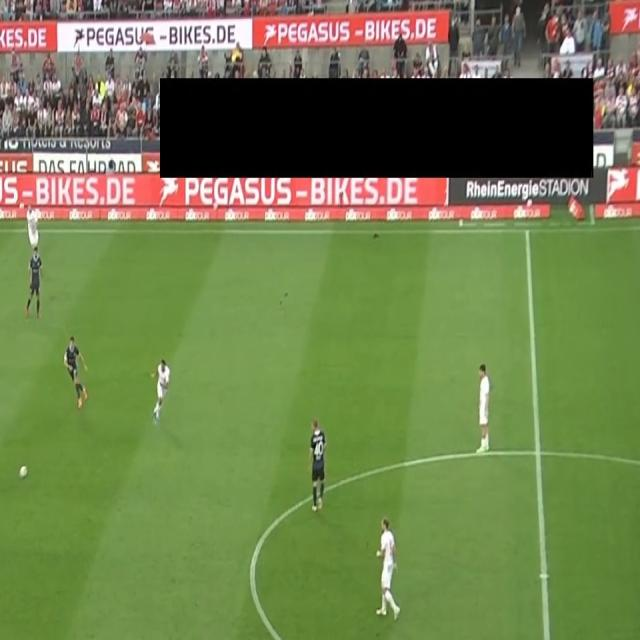ball: (18, 463, 28, 481)
